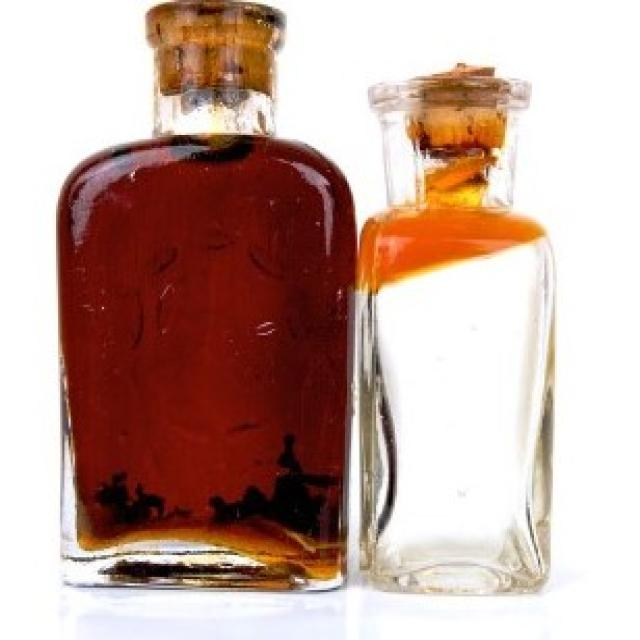electronic: (55, 0, 554, 599)
